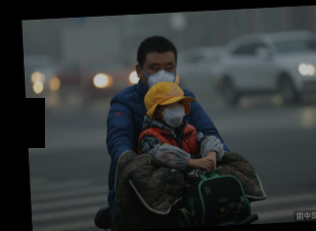with_mask: (141, 59, 176, 92), (160, 99, 187, 127)
